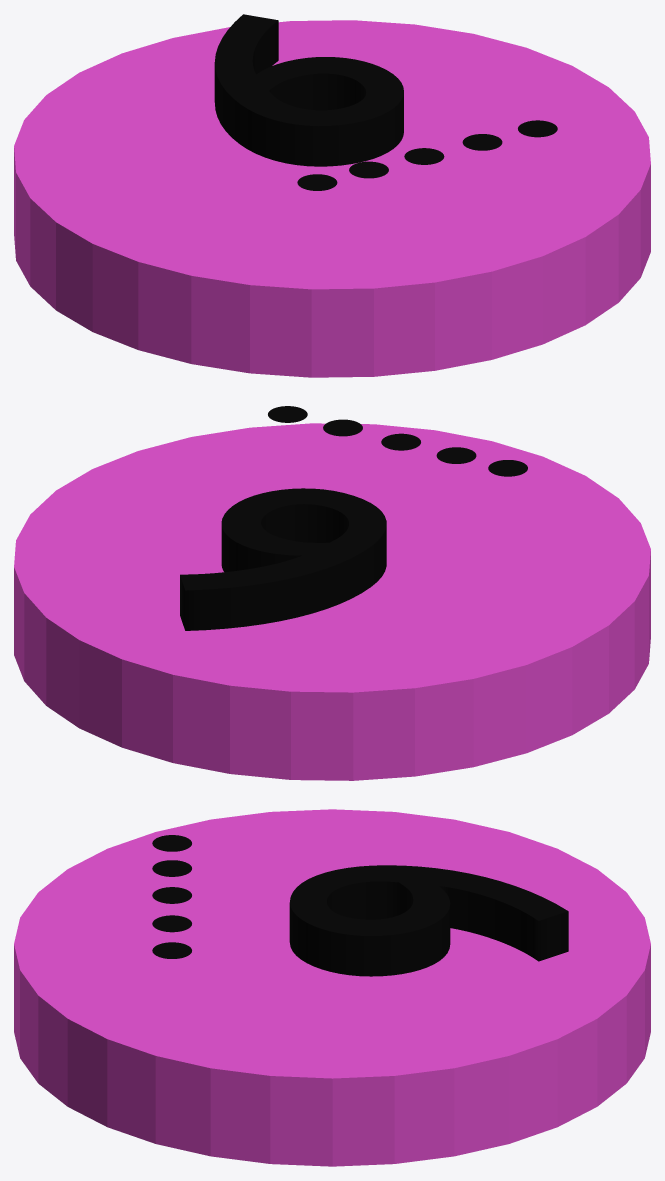
File: six.fbx
3 renders of one model, top to bottom at view 1: azimuth 30°, elevation 25°; view 2: azimuth 150°, elevation 25°; view 3: azimuth 270°, elevation 25°, orthographic.
Parts seen in each view (by area): view 1: Circle, Text.001, Circle.003, Circle.007, Circle.008, Circle.001, Circle.002; view 2: Circle, Text.001, Circle.002, Circle.001, Circle.007, Circle.008, Circle.003; view 3: Circle, Text.001, Circle.002, Circle.008, Circle.003, Circle.007, Circle.001.
Boxes of the visible parts, x1=… form: Circle: x1=14, y1=20, x2=650, y2=377; Text.001: x1=214, y1=14, x2=403, y2=166; Circle.003: x1=518, y1=120, x2=557, y2=137; Circle.007: x1=349, y1=161, x2=388, y2=178; Circle.008: x1=297, y1=174, x2=337, y2=190; Circle.001: x1=404, y1=148, x2=444, y2=164; Circle.002: x1=462, y1=134, x2=502, y2=150; Circle: x1=14, y1=423, x2=650, y2=780; Text.001: x1=180, y1=488, x2=386, y2=630; Circle.002: x1=323, y1=419, x2=362, y2=436; Circle.001: x1=381, y1=433, x2=420, y2=450; Circle.007: x1=436, y1=447, x2=476, y2=463; Circle.008: x1=488, y1=460, x2=527, y2=476; Circle.003: x1=268, y1=406, x2=307, y2=422; Circle: x1=14, y1=809, x2=650, y2=1166; Text.001: x1=289, y1=865, x2=568, y2=976; Circle.002: x1=152, y1=915, x2=191, y2=932; Circle.008: x1=152, y1=835, x2=191, y2=851; Circle.003: x1=152, y1=942, x2=191, y2=958; Circle.007: x1=152, y1=860, x2=191, y2=876; Circle.001: x1=152, y1=887, x2=191, y2=903.
Bounding box in the file's own units: 200 × 49.27 × 200.
